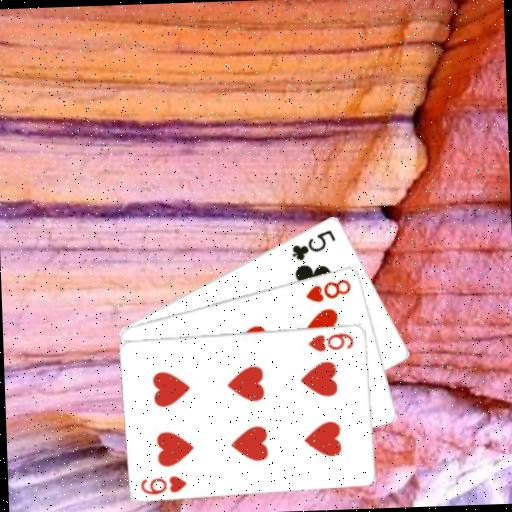5C: (287, 225, 337, 262)
6H: (305, 329, 356, 353), (138, 472, 189, 496)
8H: (302, 275, 353, 304)
